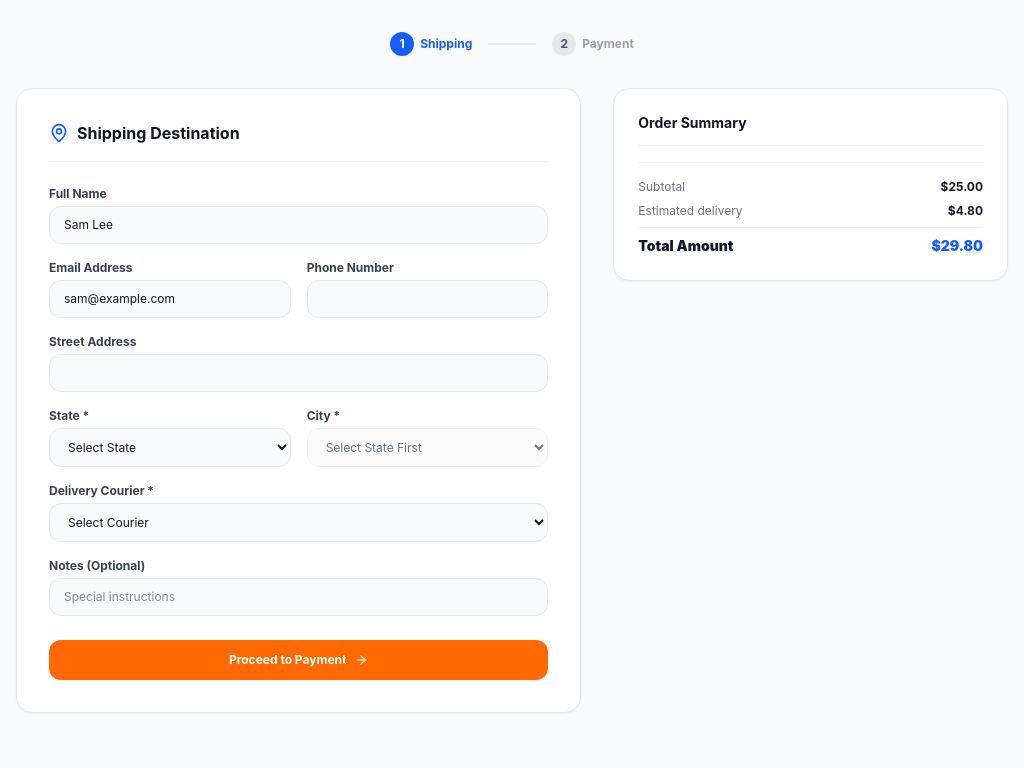
Scenario: Shipping page › has no stray citation text, even in the free-delivery notice
Select "Bauchi State (Primary Local Hub)" in the dropdown below "State *" at (170, 448), box [49, 428, 291, 467]
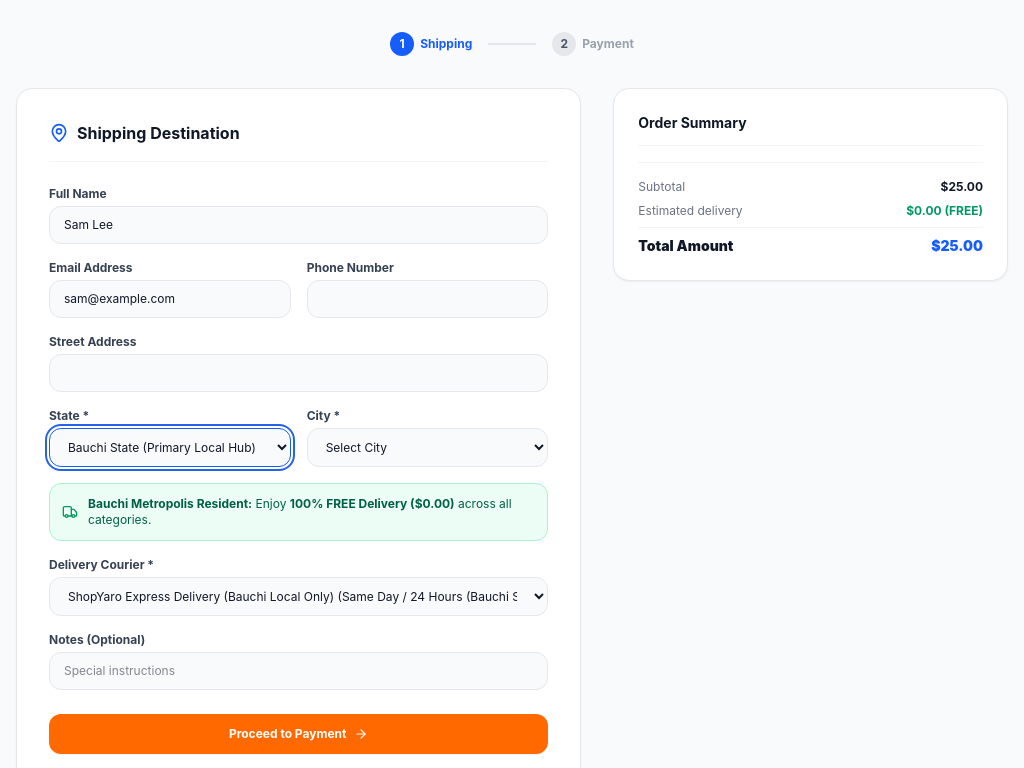
Now the text "100% FREE Delivery" is shown, box [290, 496, 415, 511]
